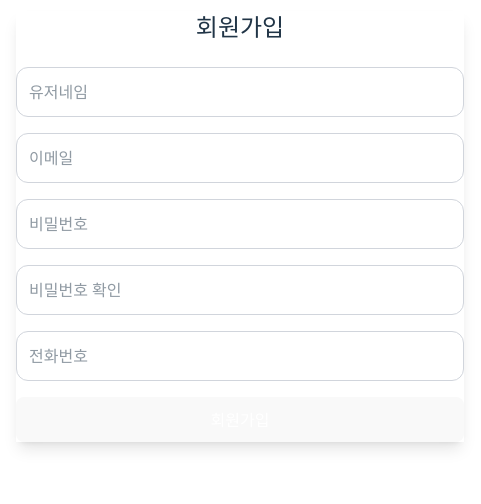
Test: 🔹 RegisterForm 통합 테스트 › 회원가입 성공 시 메시지 출력
Step 1. Type "tester" into the field with placeholder "유저네임" → (240, 92), box [16,67,464,117]
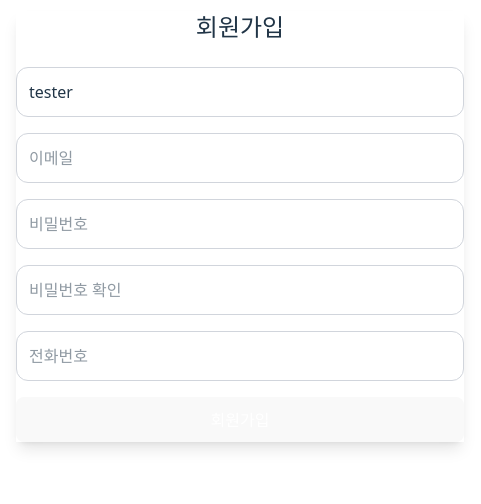
Step 2. Type "test@example.com" into the field with placeholder "이메일" → (240, 158), box [16,133,464,183]
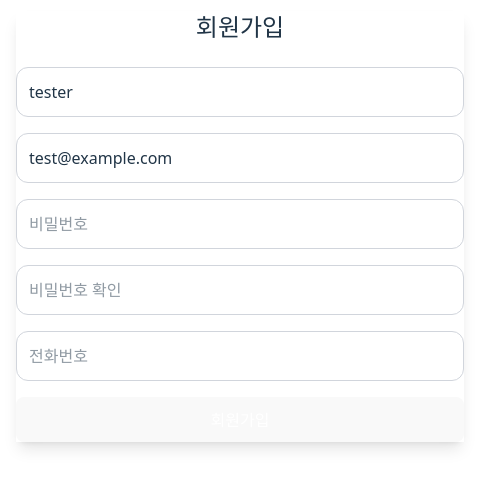
Step 3. Type "password123" into the password field with placeholder "비밀번호" → (240, 224), box [16,199,464,249]
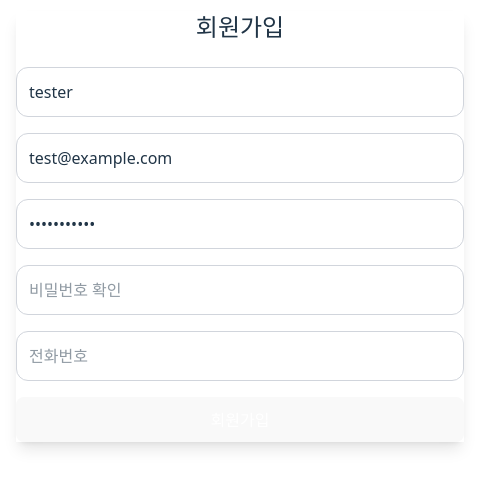
Step 4. Type "password123" into the password field with placeholder "비밀번호 확인" → (240, 290), box [16,265,464,315]
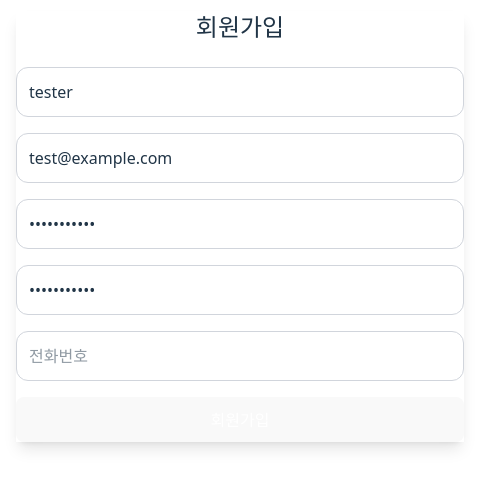
Step 5. Click the button "회원가입" → (240, 420), box [16,397,464,442]
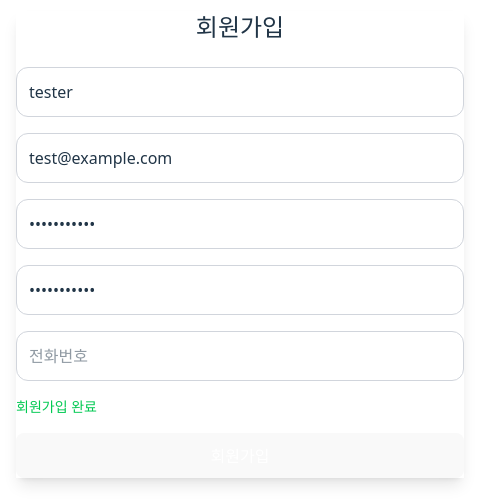
Result: the text "회원가입 완료" is shown at [16,397,97,416]
